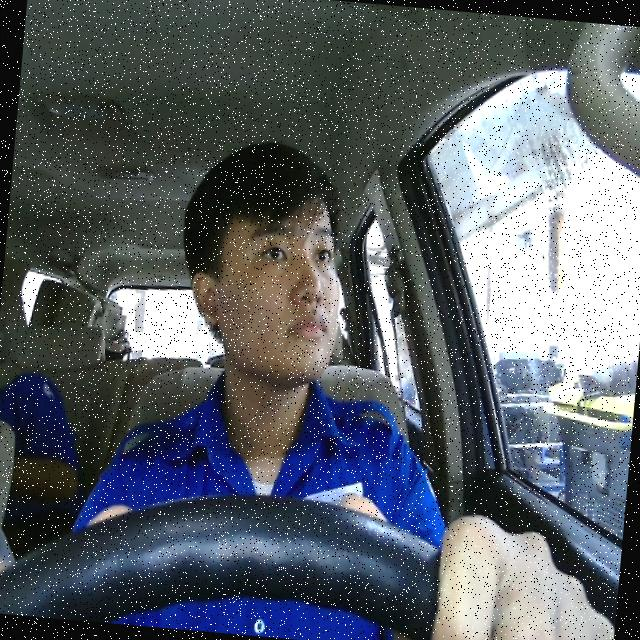seeing_right: (182, 180, 348, 383)
